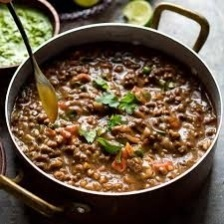sabzi: (7, 38, 219, 193)
